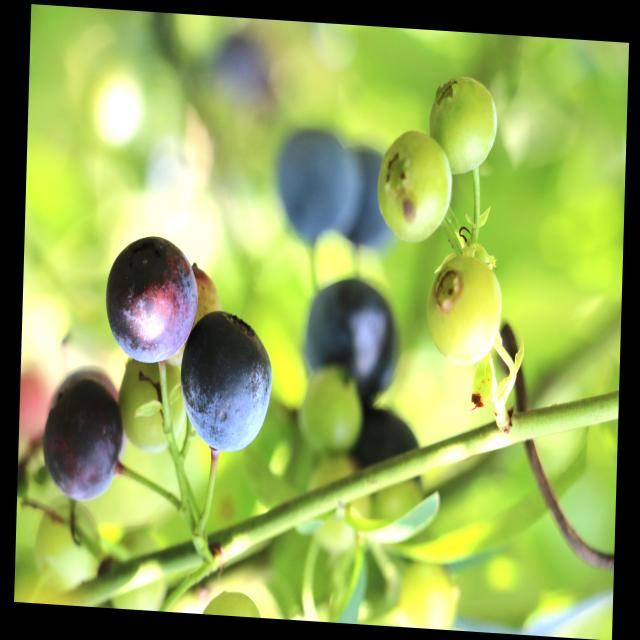blueberry: (103, 235, 204, 368), (182, 314, 272, 461), (303, 281, 404, 409), (43, 376, 124, 501), (274, 135, 353, 249)
blueberry-unripe: (421, 244, 506, 371), (374, 128, 454, 250), (429, 75, 498, 180), (118, 356, 187, 456), (299, 370, 363, 455)
